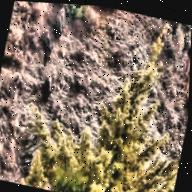boar: (38, 21, 55, 63), (52, 3, 70, 38), (38, 69, 55, 103)
